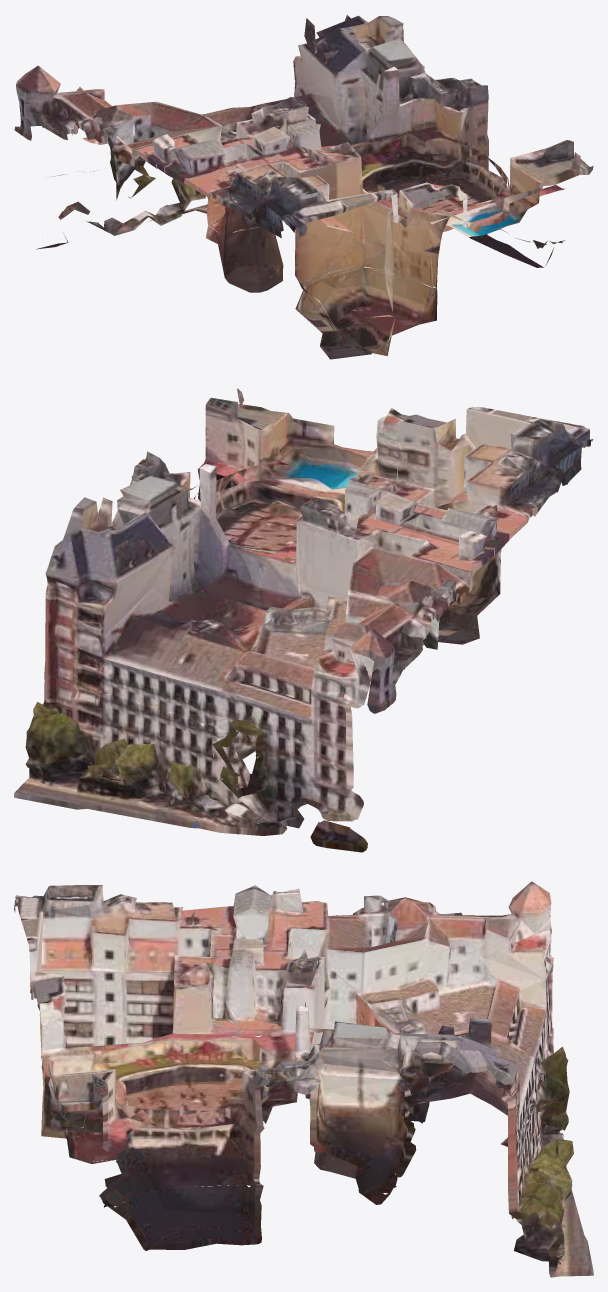
3 renders of one model, top to bottom at view 1: azimuth 30°, elevation 25°; view 2: azimuth 150°, elevation 25°; view 3: azimuth 270°, elevation 25°, orthographic. The views are drawn at different scales.
Visible parts, largest first — view 1: Mesh_0; view 2: Mesh_0; view 3: Mesh_0.
Part boxes in pixels (x1,y1,x2,y2): Mesh_0: (14,15,593,359); Mesh_0: (14,388,593,852); Mesh_0: (14,881,593,1277).
Bounding box in the file's own units: 67.14 × 39.65 × 82.46.
Materials: 1 (1 with a texture image).
